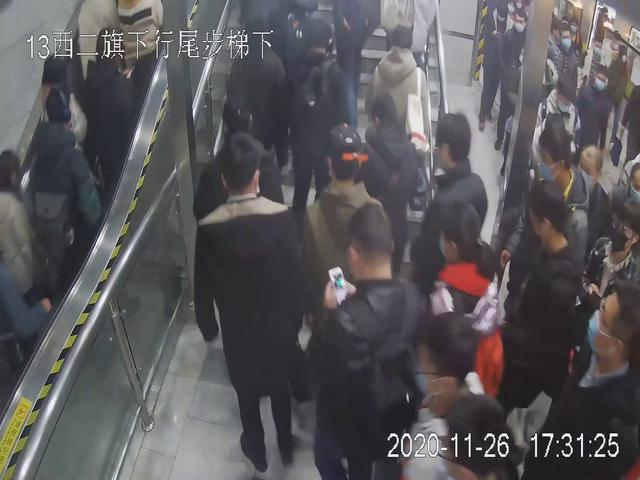person: (188, 131, 313, 480), (315, 208, 430, 474), (405, 196, 512, 400), (503, 181, 585, 420), (28, 80, 106, 283), (349, 93, 429, 278), (418, 109, 496, 278)
